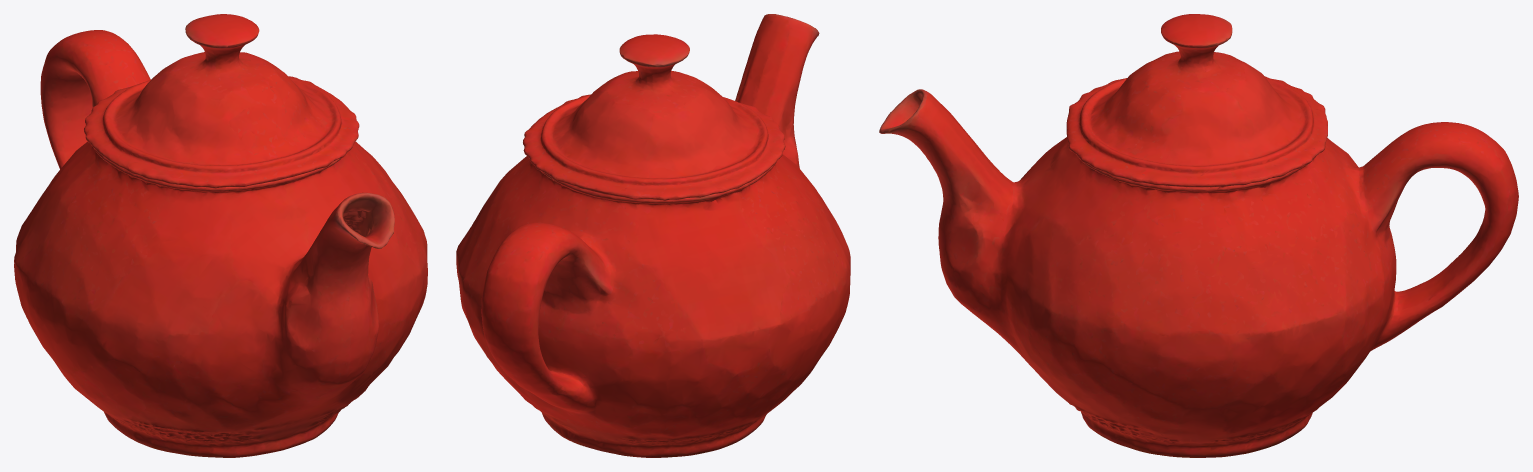
Rendered from hermit.glb.
3 renders of one model, left to right at view 1: azimuth 30°, elevation 25°; view 2: azimuth 150°, elevation 25°; view 3: azimuth 270°, elevation 25°, orthographic. The views are drawn at different scales.
Visible parts, largest first — view 1: geometry_0; view 2: geometry_0; view 3: geometry_0.
Boxes of the visible parts, x1,y1,x2,y2 form: geometry_0: (14,14,427,457); geometry_0: (456,14,850,457); geometry_0: (879,14,1518,457).
Size of the model in its own units: 0.6402 by 0.6706 by 1.
Materials: 1 (1 with a texture image).
